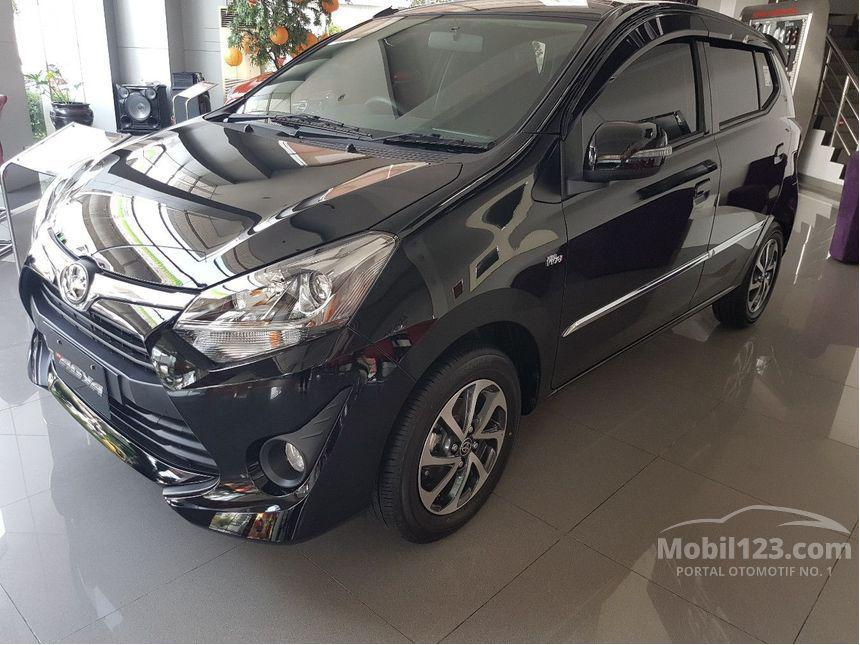mobil: (5, 2, 825, 571)
